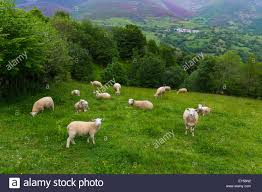sheep: (65, 117, 99, 147), (30, 95, 56, 119), (182, 107, 200, 136), (128, 97, 154, 113), (93, 90, 115, 103), (75, 97, 92, 113), (154, 84, 171, 99), (197, 104, 212, 119), (108, 81, 123, 95), (174, 87, 188, 98), (71, 89, 84, 99), (89, 79, 102, 89)
